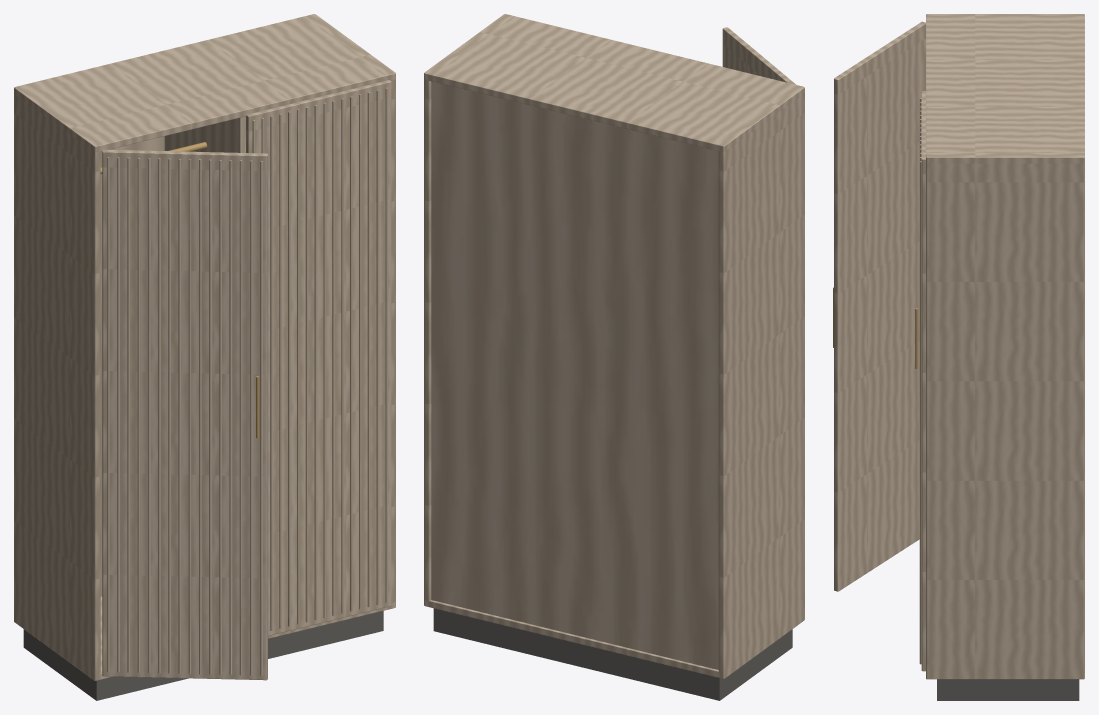
The model's file is kowhai-hero-bed-03.glb.
The picture shows the model from 3 angles, left to right: view 1: azimuth 30°, elevation 25°; view 2: azimuth 150°, elevation 25°; view 3: azimuth 270°, elevation 25°; orthographic projection. The views are drawn at different scales.
Parts seen in each view (by area): view 1: SubPart (×38), Wardrobe_ShadowPlinth; view 2: SubPart (×6), Wardrobe_ShadowPlinth; view 3: SubPart (×6), Wardrobe_ShadowPlinth.
Boxes of the visible parts, box(x1,y1,x2,y2) form: SubPart (×38): box(14, 14, 395, 680); Wardrobe_ShadowPlinth: box(23, 611, 383, 700); SubPart (×6): box(424, 14, 804, 678); Wardrobe_ShadowPlinth: box(433, 608, 792, 700); SubPart (×6): box(834, 14, 1084, 679); Wardrobe_ShadowPlinth: box(937, 679, 1079, 700).
Size of the model in its own units: 1.24 by 2.2 by 0.9184.
4 materials, 3 textured.
